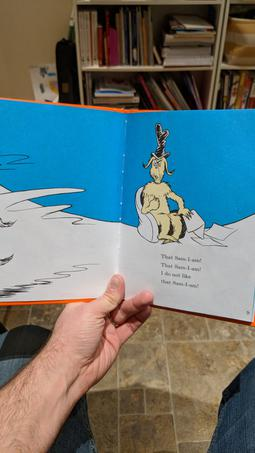text block: (156, 250, 208, 293)
